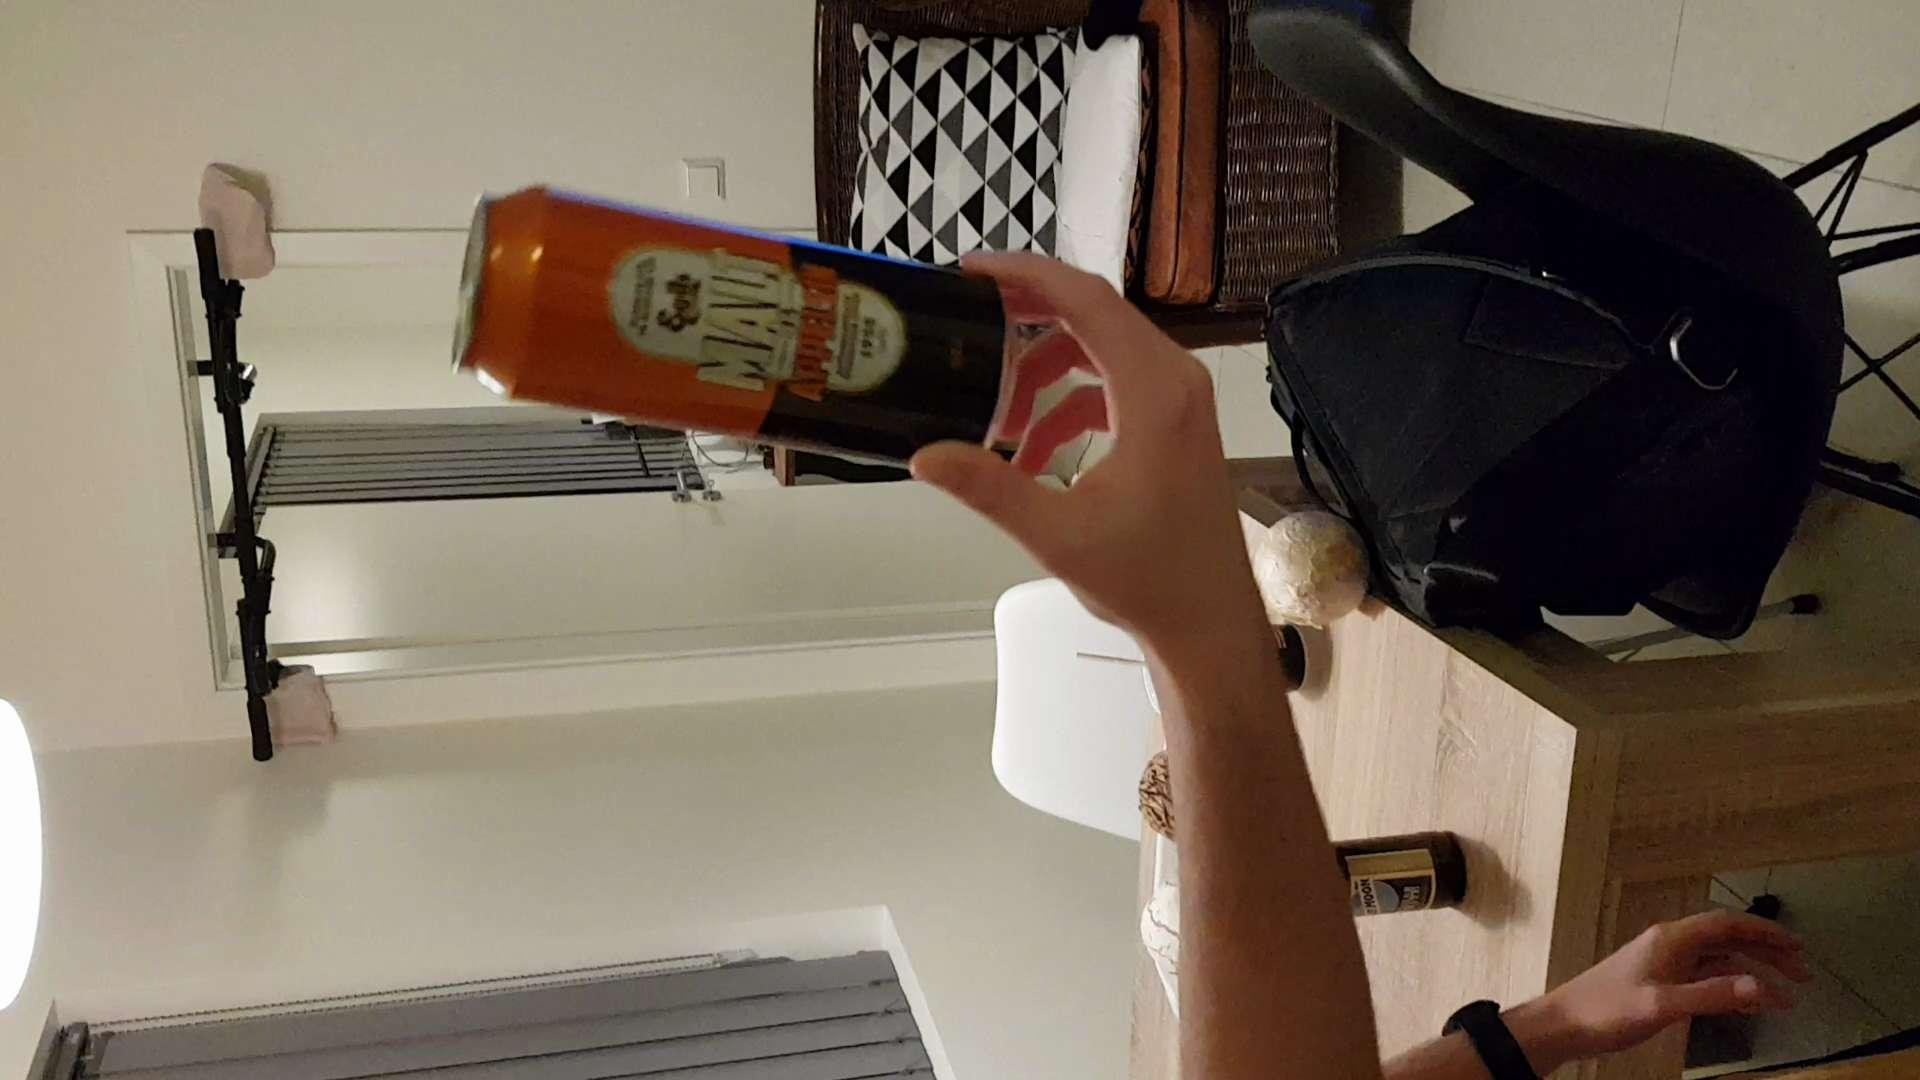Can: (435, 175, 1002, 479)
